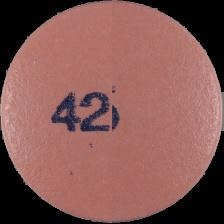54868-6309: (0, 0, 224, 224)
